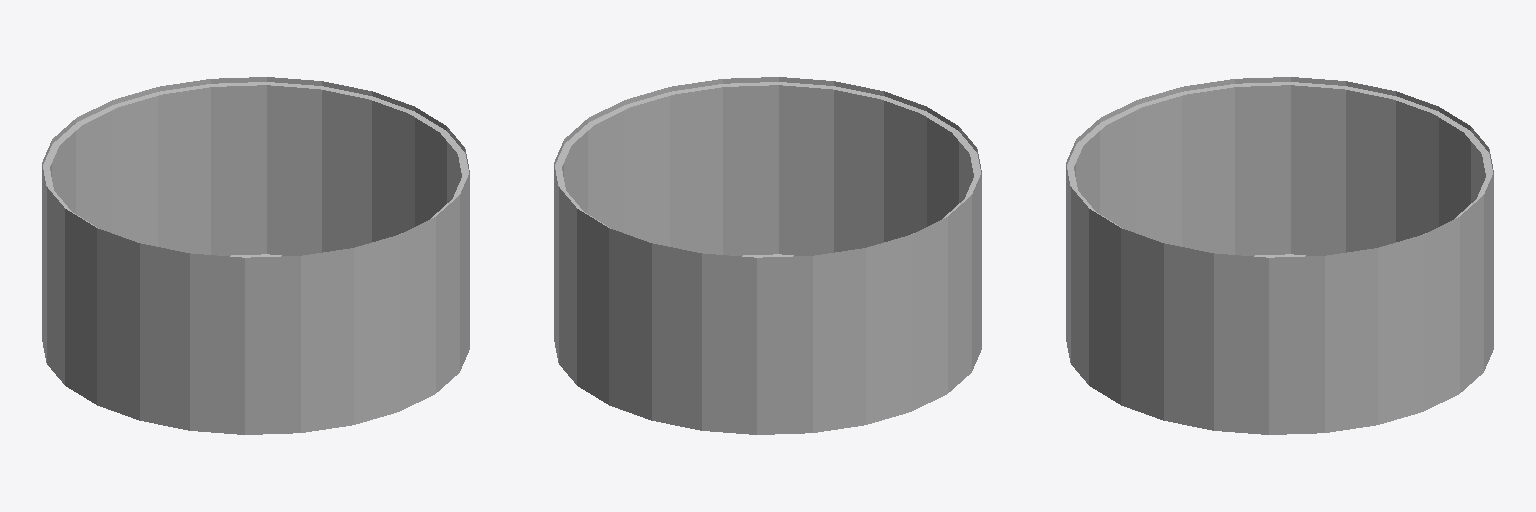
The model's file is original-21.obj.
3 views of the same model, side by side, from view 1: azimuth 30°, elevation 25°; view 2: azimuth 150°, elevation 25°; view 3: azimuth 270°, elevation 25° (orthographic).
Parts seen in each view (by area): view 1: #ID145; view 2: #ID145; view 3: #ID145.
Boxes of the visible parts, x1,y1,x2,y2 form: #ID145: [42, 77, 469, 434]; #ID145: [554, 77, 981, 434]; #ID145: [1066, 77, 1493, 434].
Size of the model in its own units: 1.18 by 0.541 by 1.18.